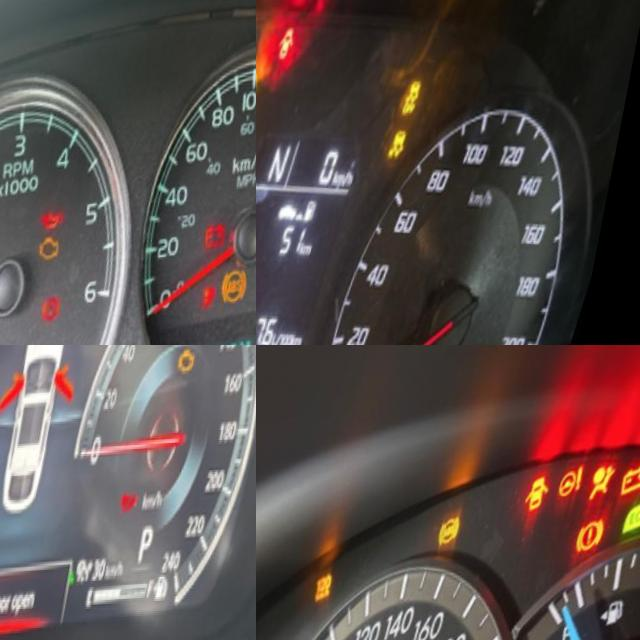Doors: (273, 20, 305, 73), (525, 477, 561, 521)
